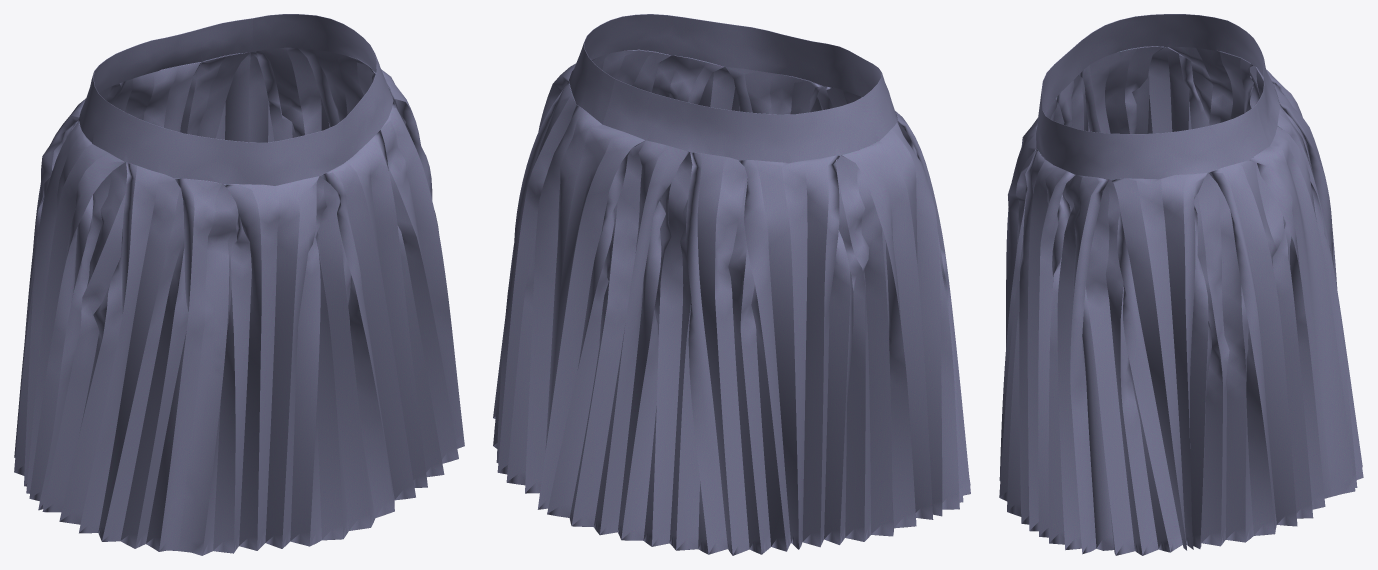
The picture shows the model from 3 angles, left to right: view 1: azimuth 30°, elevation 25°; view 2: azimuth 150°, elevation 25°; view 3: azimuth 270°, elevation 25°; orthographic projection. The views are drawn at different scales.
Parts seen in each view (by area): view 1: Pattern2D_1251758, Pattern2D_1251757, Pattern2D_1249878; view 2: Pattern2D_1251757, Pattern2D_1251758, Pattern2D_1249878; view 3: Pattern2D_1251758, Pattern2D_1251757, Pattern2D_1249878.
Boxes of the visible parts, x1,y1,x2,y2 form: Pattern2D_1251758: [178, 47, 464, 555]; Pattern2D_1251757: [14, 52, 250, 551]; Pattern2D_1249878: [79, 14, 393, 185]; Pattern2D_1251757: [537, 97, 970, 555]; Pattern2D_1251758: [493, 49, 861, 493]; Pattern2D_1249878: [569, 14, 897, 162]; Pattern2D_1251758: [999, 99, 1331, 555]; Pattern2D_1251757: [1050, 46, 1363, 496]; Pattern2D_1249878: [1036, 14, 1279, 179].
Size of the model in its own units: 46.19 by 44.3 by 35.03.
